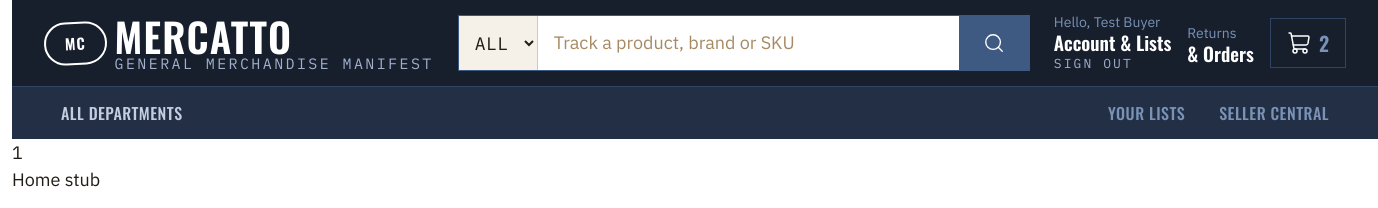
Test case: Header account links › sends a signed-in user to /account from Account & Lists
This screenshot has width=1378, height=208.
Check: the text "Hello, Test Buyer" is shown, box [1054,12,1171,32]
Check: the text with test id "lists-count" reads "1", box [12,141,23,164]
Click the text "Account & Lists" at (1112,42), box [1054,32,1171,52]
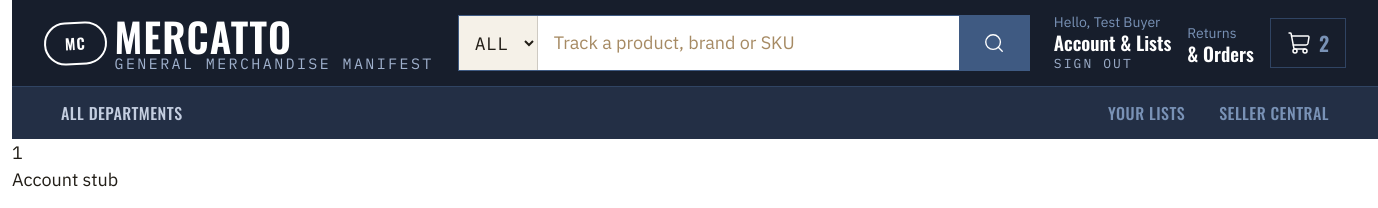
Check: the text "Account stub" is shown, box [12,168,118,191]
